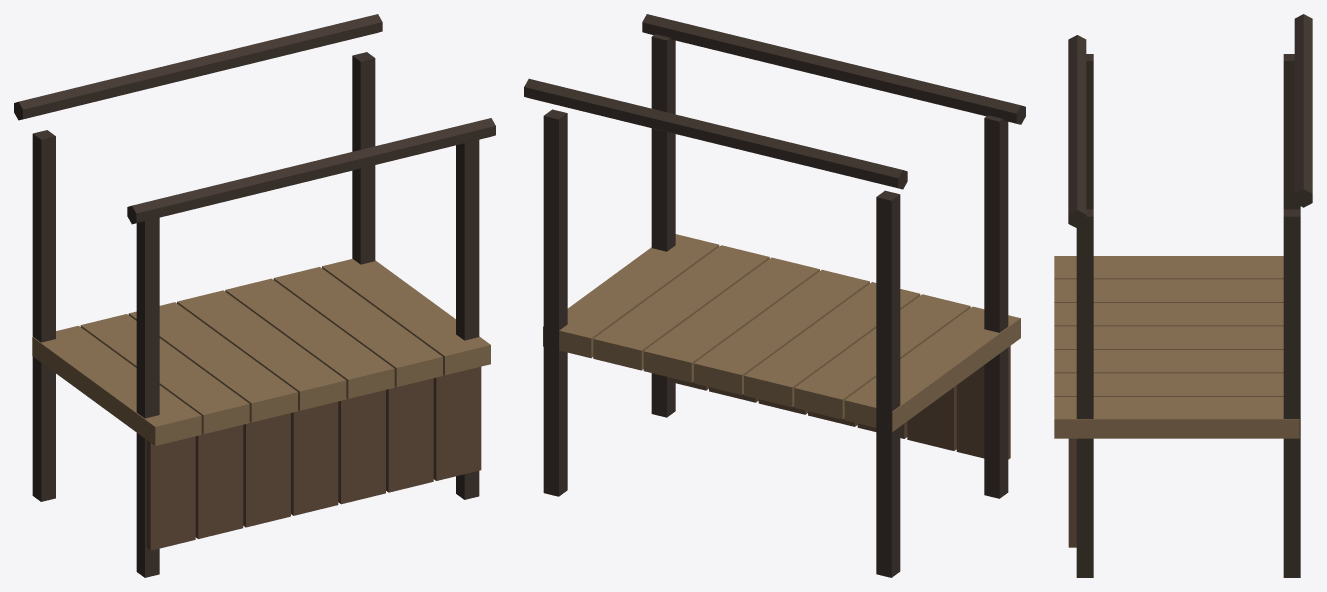
The model's file is stall_frame.glb.
3 views of the same model, side by side, from view 1: azimuth 30°, elevation 25°; view 2: azimuth 150°, elevation 25°; view 3: azimuth 270°, elevation 25° (orthographic). The views are drawn at different scales.
Parts seen in each view (by area): view 1: stall post.001, counter plank, canopy rail.001, canopy rail, counter plank.003, counter plank.004, counter plank.005, stall post, counter plank.006, counter plank.002, counter plank.001, stall post.002 (+8 smaller); view 2: stall post.001, stall post.003, stall post, counter plank, canopy rail.001, canopy rail, counter plank.004, counter plank.005, counter plank.003, counter plank.002, counter plank.006, counter plank.001 (+3 smaller); view 3: counter plank.006, stall post.003, stall post.002, counter plank.001, counter plank.003, counter plank.005, counter plank, counter plank.002, counter plank.004, canopy rail.001, canopy rail, stall post.001 (+2 smaller).
Part boxes in pixels (bbox=[...]): stall post.001: bbox=[32, 130, 55, 501]; counter plank: bbox=[32, 325, 201, 445]; canopy rail.001: bbox=[14, 14, 382, 120]; canopy rail: bbox=[127, 118, 495, 224]; counter plank.003: bbox=[177, 290, 346, 410]; counter plank.004: bbox=[225, 278, 394, 398]; counter plank.005: bbox=[273, 267, 442, 387]; stall post: bbox=[136, 217, 159, 577]; counter plank.006: bbox=[322, 259, 490, 375]; counter plank.002: bbox=[128, 302, 297, 422]; counter plank.001: bbox=[80, 314, 249, 434]; stall post.002: bbox=[456, 140, 479, 499]; stall post.001: bbox=[876, 190, 900, 577]; stall post.003: bbox=[543, 109, 567, 496]; stall post: bbox=[984, 115, 1008, 498]; counter plank: bbox=[844, 306, 1020, 431]; canopy rail.001: bbox=[524, 78, 907, 189]; canopy rail: bbox=[642, 14, 1025, 124]; counter plank.004: bbox=[643, 257, 819, 382]; counter plank.005: bbox=[593, 245, 769, 370]; counter plank.003: bbox=[694, 269, 869, 394]; counter plank.002: bbox=[744, 282, 920, 407]; counter plank.006: bbox=[543, 234, 719, 358]; counter plank.001: bbox=[794, 294, 970, 419]; counter plank.006: bbox=[1054, 397, 1299, 438]; stall post.003: bbox=[1283, 209, 1300, 577]; stall post.002: bbox=[1076, 209, 1093, 577]; counter plank.001: bbox=[1054, 279, 1283, 302]; counter plank.003: bbox=[1054, 326, 1283, 349]; counter plank.005: bbox=[1054, 373, 1283, 396]; counter plank: bbox=[1054, 256, 1283, 279]; counter plank.002: bbox=[1054, 303, 1283, 326]; counter plank.004: bbox=[1054, 350, 1283, 373]; canopy rail.001: bbox=[1294, 14, 1312, 207]; canopy rail: bbox=[1068, 35, 1086, 228]; stall post.001: bbox=[1283, 54, 1300, 209].
Size of the model in its own units: 1.08 by 1.14 by 0.6734.
